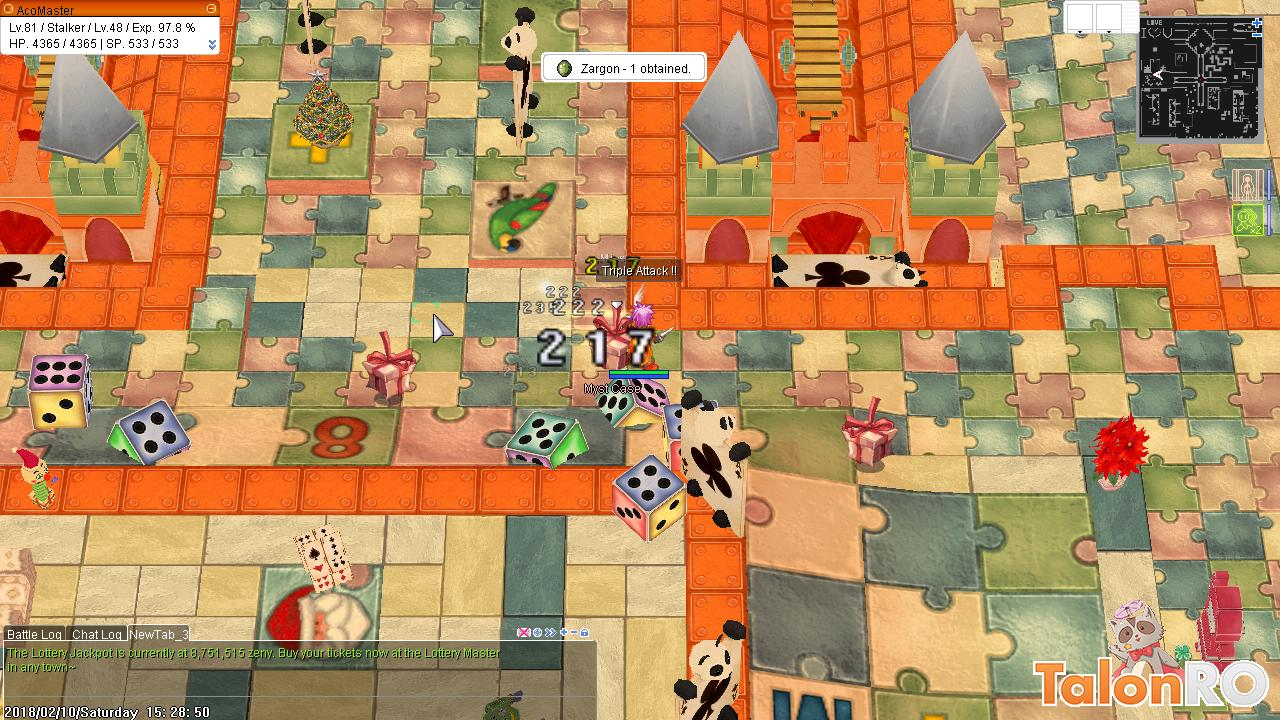myst_case: (357, 326, 420, 407), (842, 395, 898, 477), (588, 303, 634, 372)
